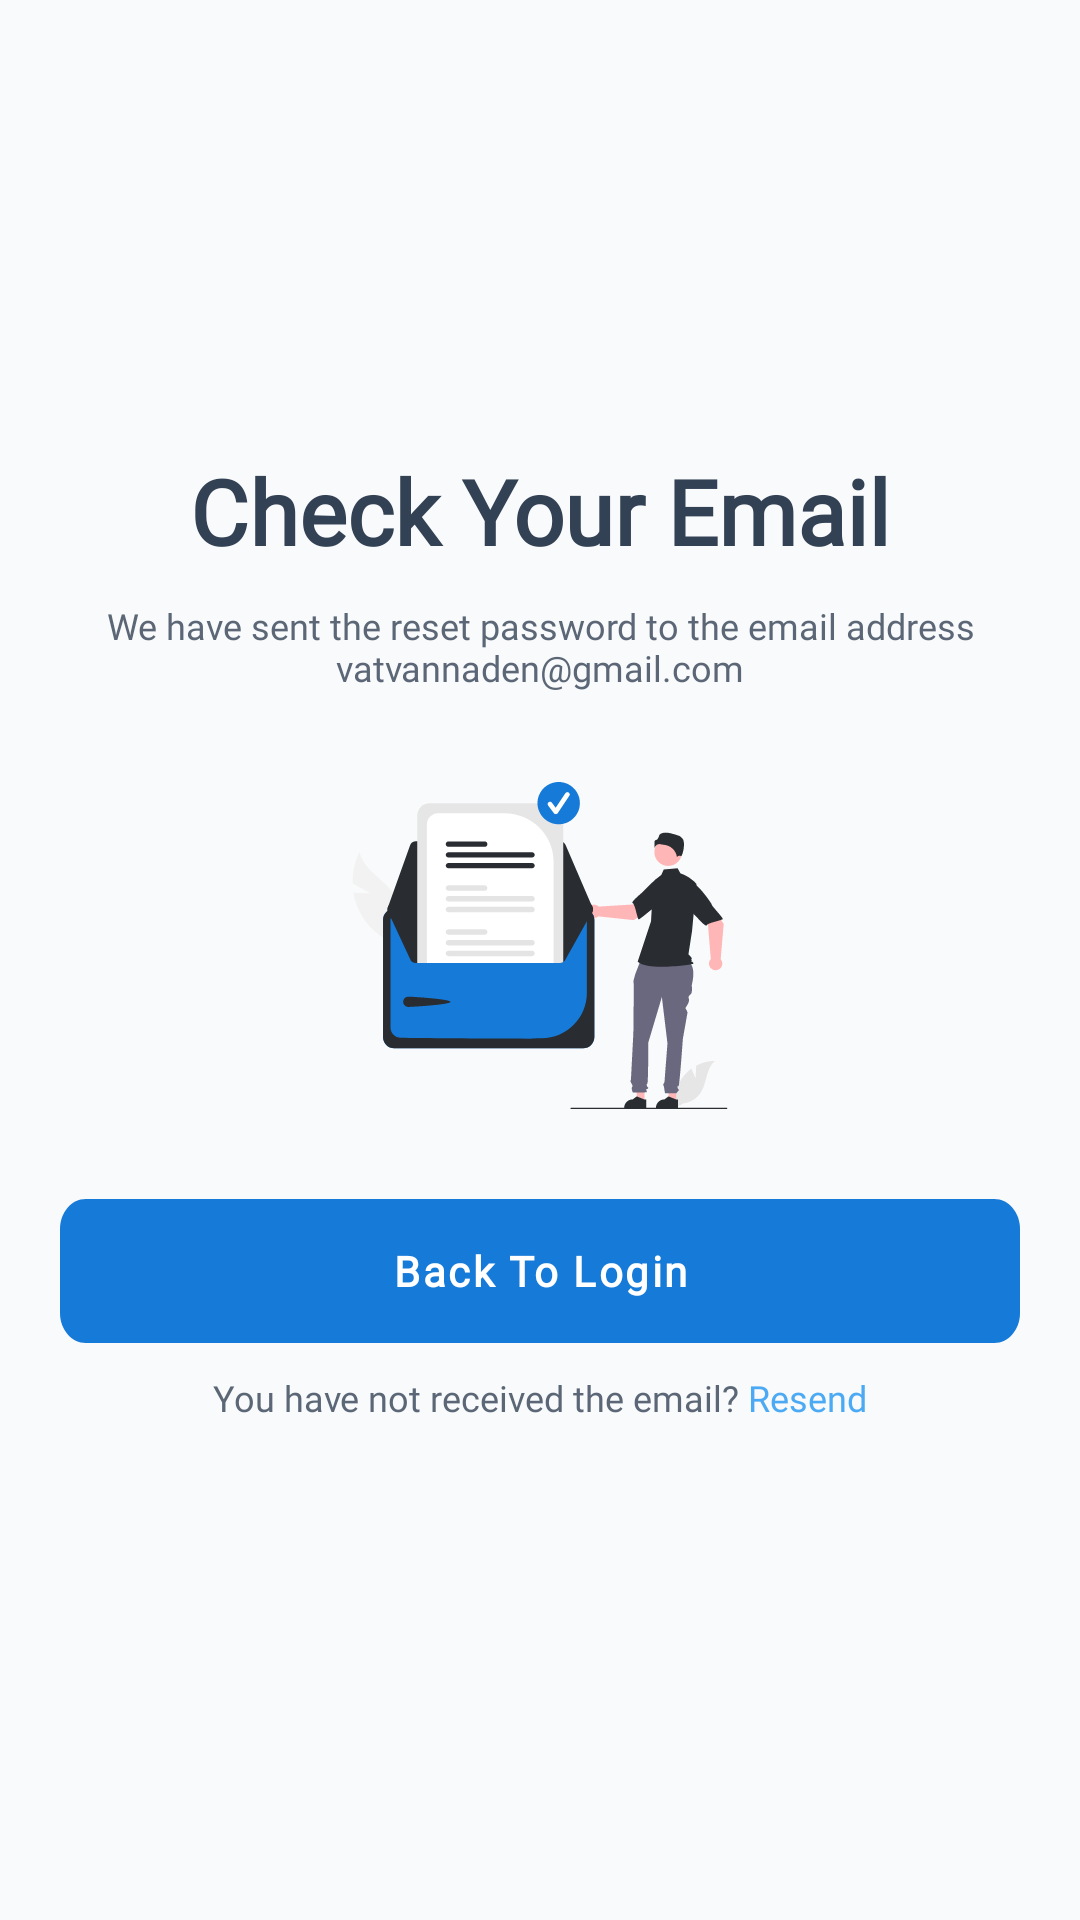

Locate icon controls on the screen. Image size 1080×1920, boxes as (x1, y1, x2, y2).
check email: (383, 782, 728, 1109)
